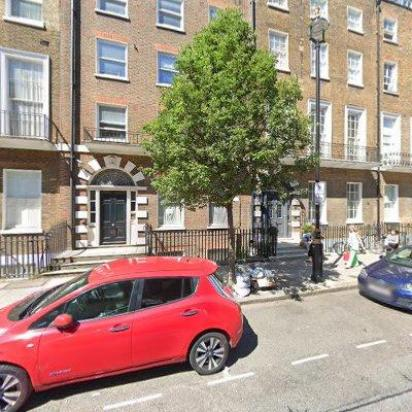stationary-bicycle-onstreet: (335, 230, 379, 256)
stationary-car-onstreet: (0, 256, 246, 410), (358, 244, 410, 308)
